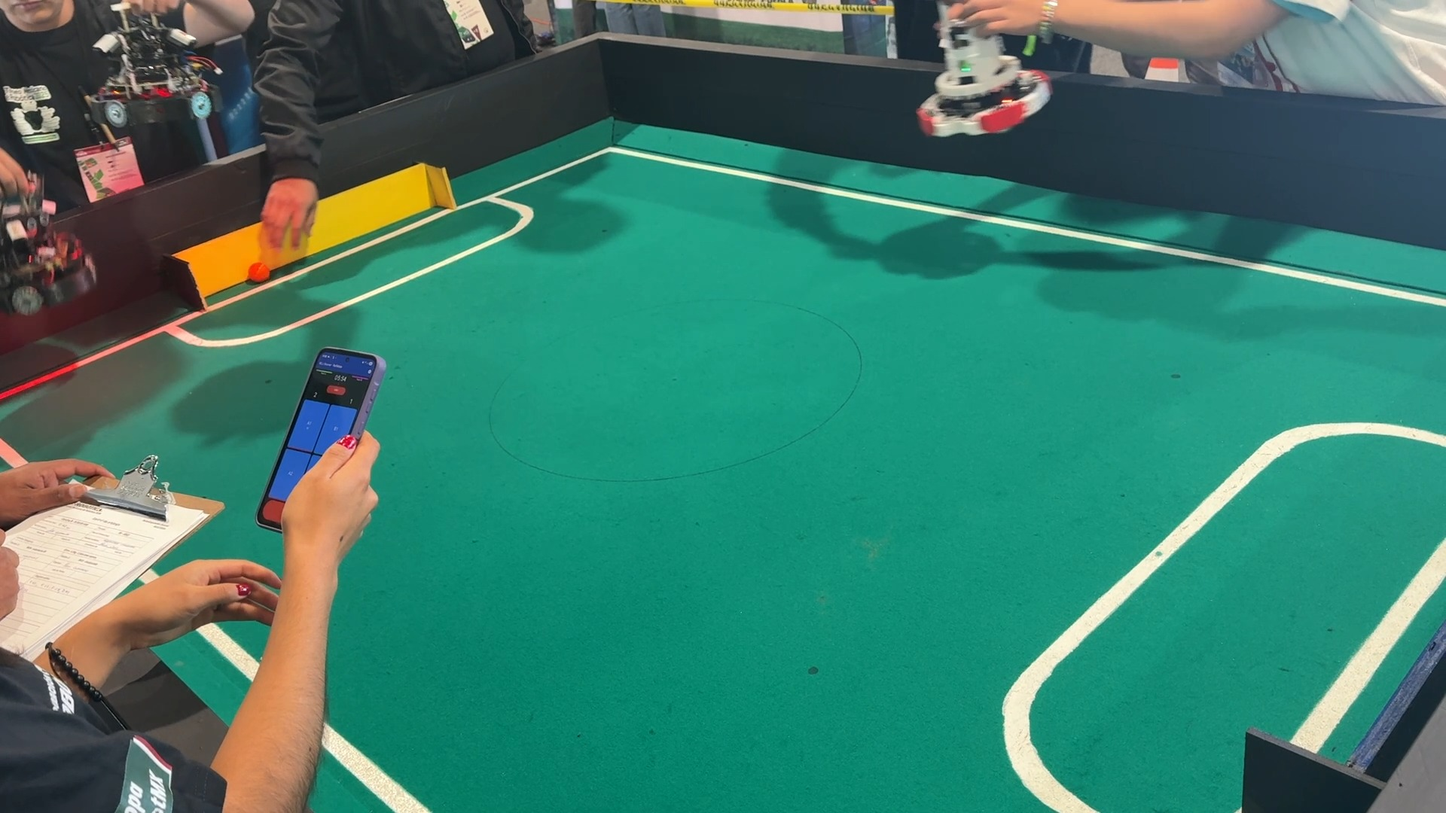Robot: (906, 12, 1057, 156), (95, 2, 228, 119)
pelota: (244, 256, 280, 295)
